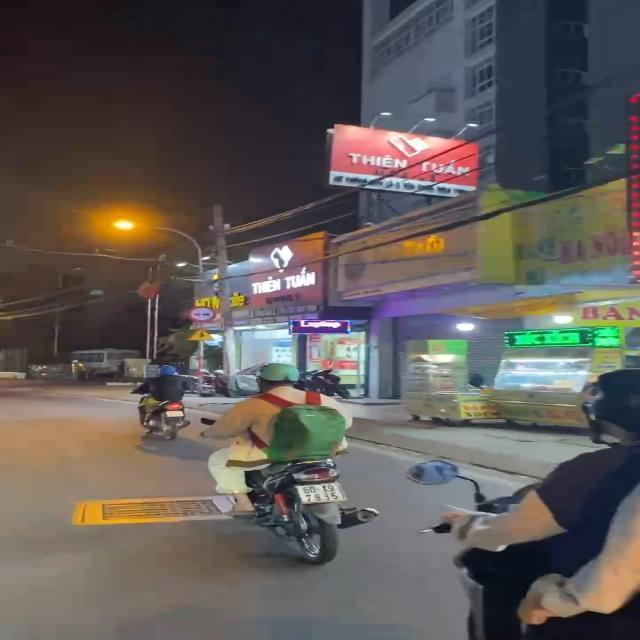125-cam-vuot: (186, 306, 217, 322)
207-giao-nhau-voi-duong-khong-uu-tien: (186, 329, 216, 342)
